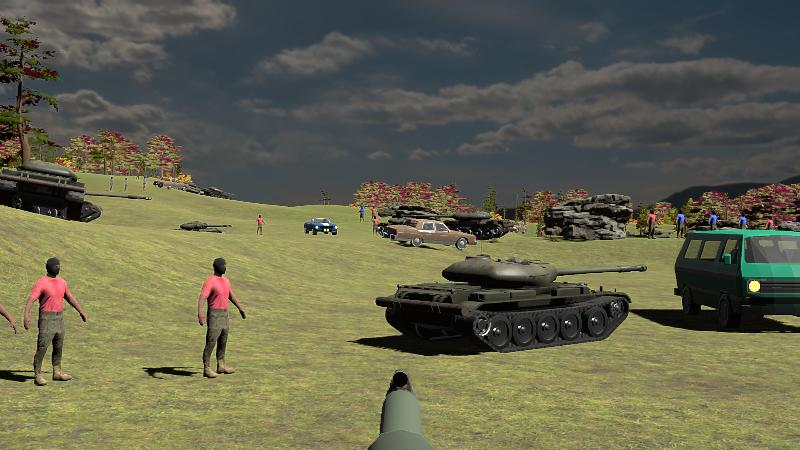Human: (22, 256, 86, 386), (198, 257, 246, 379)
Tank: (377, 255, 647, 353), (0, 158, 85, 221), (426, 211, 521, 241)
car: (674, 228, 800, 331), (376, 218, 476, 250), (304, 217, 338, 236)
